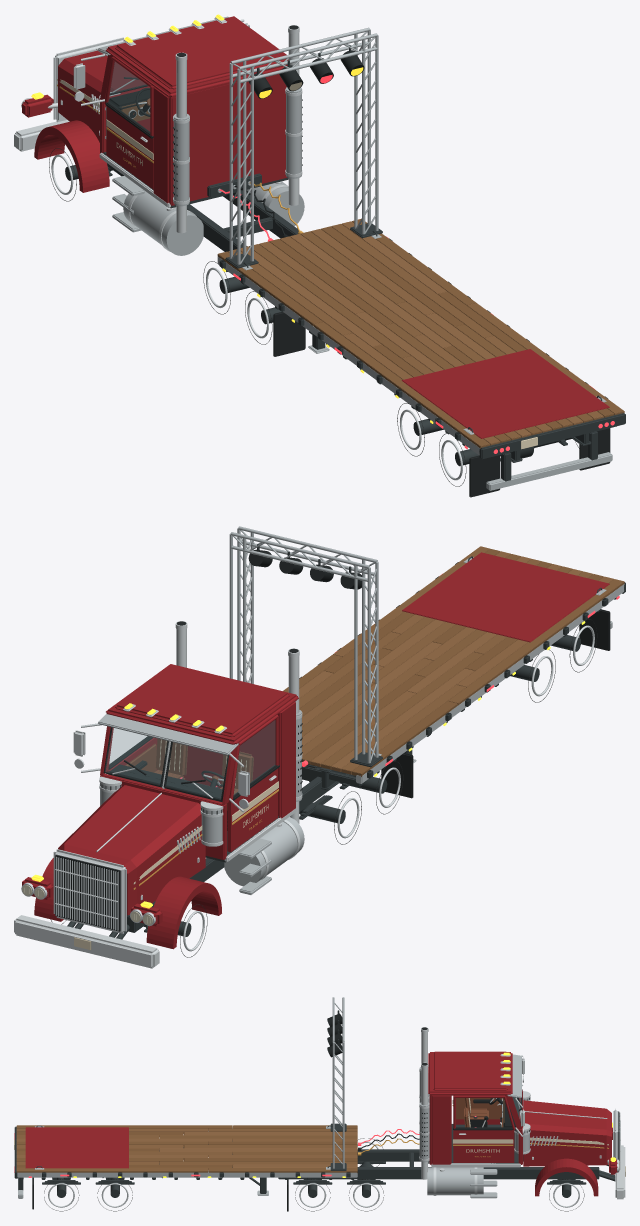
File: BandFlatbed.fbx
The picture shows the model from 3 angles, top to bottom: view 1: azimuth 30°, elevation 25°; view 2: azimuth 150°, elevation 25°; view 3: azimuth 270°, elevation 25°; orthographic projection. The views are drawn at different scales.
Parts seen in each view (by area): view 1: BandFlatbed; view 2: BandFlatbed; view 3: BandFlatbed.
Boxes of the visible parts, left/top/right/bottom form: BandFlatbed: left=14, top=14, right=625, bottom=497; BandFlatbed: left=14, top=526, right=625, bottom=968; BandFlatbed: left=14, top=997, right=625, bottom=1211.
Size of the model in its own units: 315 by 455 by 1471.
